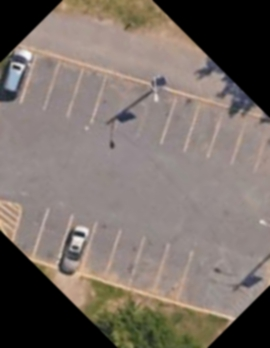parkingspot: (0, 42, 270, 183), (9, 193, 198, 308)
